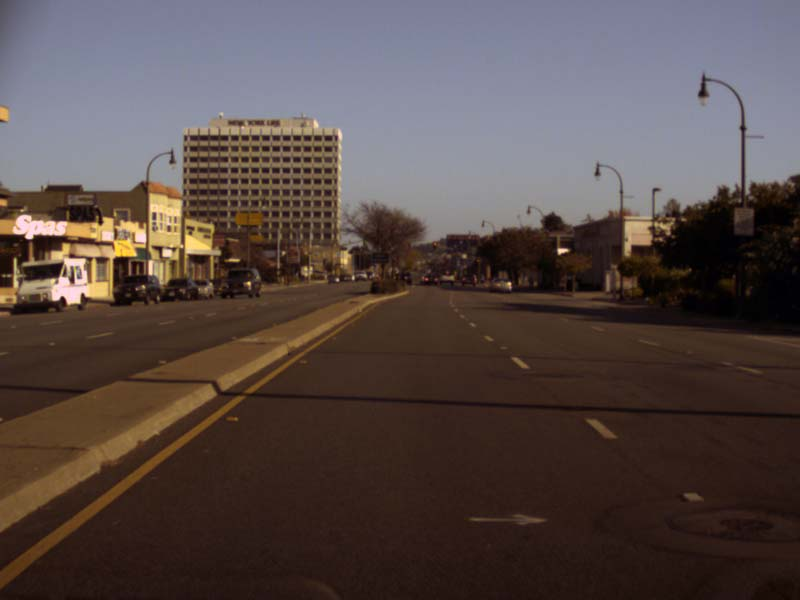Red: (433, 242, 436, 249)
